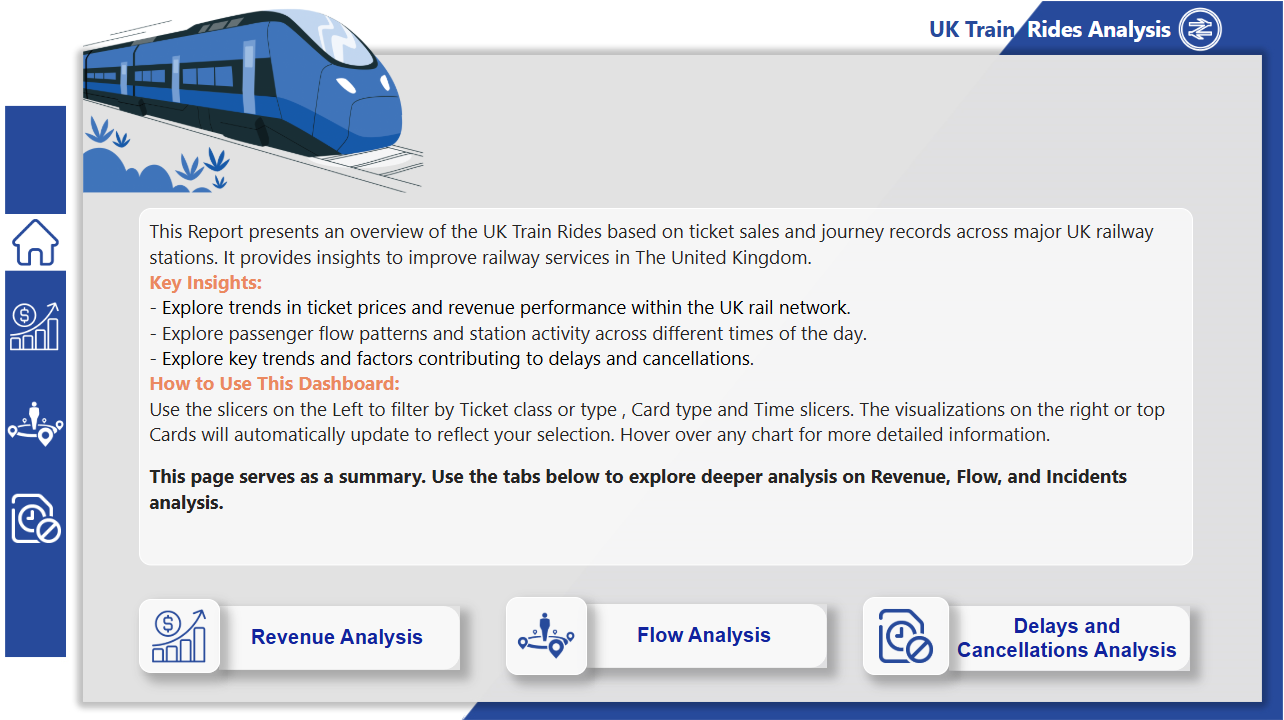

The dashboard page shown, as its layout file describes it:
{"tool":"powerbi","page":{"name":"Home","canvas":[1280,720],"ordinal":1},"visuals":[{"type":"image","box":[0,0,1280,720.4],"z":0},{"type":"textbox","box":[916.5,12.8,308.1,40.5],"z":1000},{"type":"image","box":[1158.8,0,58.9,64.1],"z":2000},{"type":"image","box":[6.1,297.3,64.7,57.7],"z":3000},{"type":"image","box":[7.9,485.2,64.7,62.1],"z":4000},{"type":"image","box":[6.1,386.4,65.6,74.3],"z":5000},{"type":"shape","box":[220.3,602.4,237.8,63],"z":6000},{"type":"shape","box":[583.2,600.7,237.8,63],"z":7000},{"type":"shape","box":[940.8,602.4,237.8,63.8],"z":8000},{"type":"textbox","box":[141.2,209.4,1041,352.6],"z":9000},{"type":"image","box":[856,593.7,84.8,76.9],"z":10000},{"type":"image","box":[140.8,595.4,79.6,72.6],"z":11000},{"type":"image","box":[503.6,593.7,79.6,76.9],"z":12000},{"type":"image","box":[71.1,0,365.4,198.5],"z":13000},{"type":"image","box":[7.9,215.1,63,56],"z":14000}]}

Visuals, with their boxes in screenshot pixels (x1, y1, x2, y2), scaled from the page's 1280x720 canvas onto the 1284x720 screenshot:
image: (0,0,1283,719)
textbox: (919,13,1228,53)
image: (1162,0,1222,64)
image: (6,297,71,355)
image: (8,485,73,547)
image: (6,386,72,461)
shape: (221,602,460,665)
shape: (585,601,824,664)
shape: (944,602,1182,666)
textbox: (142,209,1186,562)
image: (859,594,944,671)
image: (141,595,221,668)
image: (505,594,585,671)
image: (71,0,438,198)
image: (8,215,71,271)
